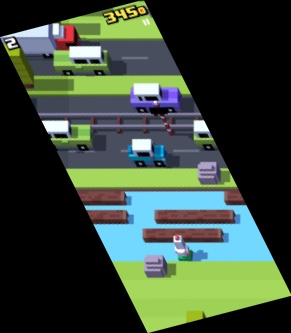car: (31, 120, 97, 151), (53, 46, 111, 77), (192, 120, 248, 152), (130, 83, 182, 114), (126, 138, 168, 168)
duck: (171, 235, 191, 258)
light off: (150, 102, 176, 137)
lilypad: (177, 249, 195, 264)
log: (142, 228, 225, 243), (155, 209, 235, 223), (62, 190, 127, 206), (223, 189, 266, 205), (82, 210, 130, 224)
rail: (32, 111, 224, 137), (35, 110, 217, 137)
rock: (197, 161, 220, 185), (144, 255, 168, 277)
tree: (1, 44, 36, 88), (186, 310, 213, 333)
truck: (1, 22, 81, 60)
water: (73, 192, 276, 261)
